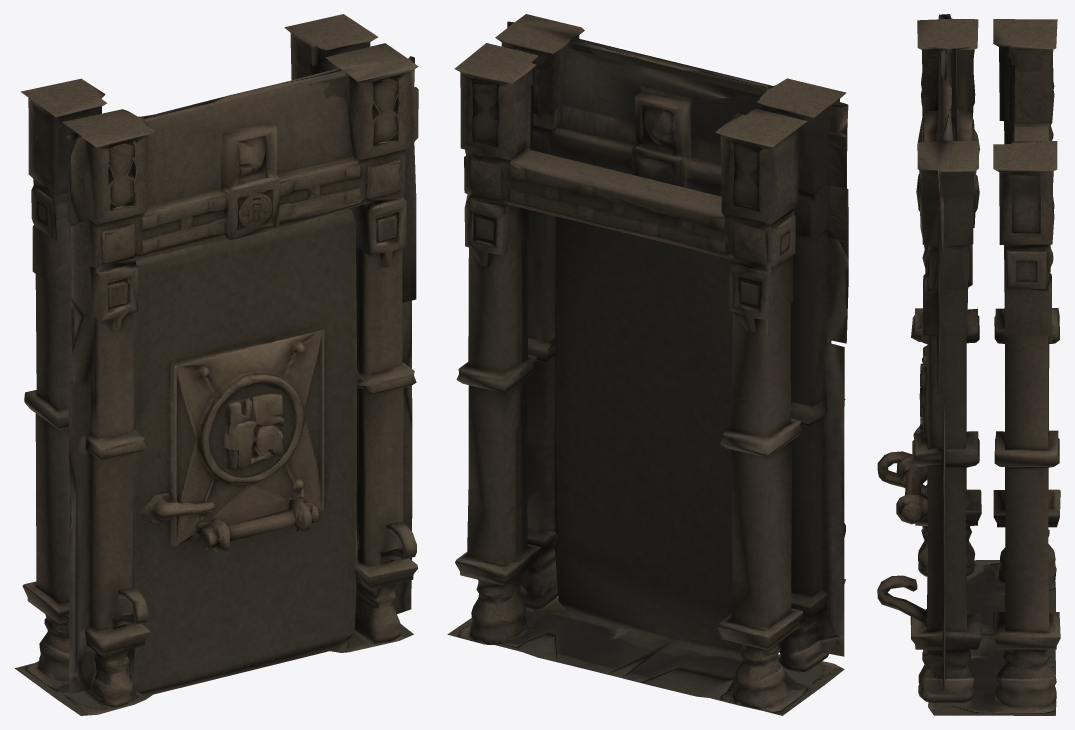
Rendered from door_slab.glb.
3 renders of one model, left to right at view 1: azimuth 30°, elevation 25°; view 2: azimuth 150°, elevation 25°; view 3: azimuth 270°, elevation 25°, orthographic. The views are drawn at different scales.
Size of the model in its own units: 1.2 by 1.9 by 0.5783.
1 material, 1 textured.
